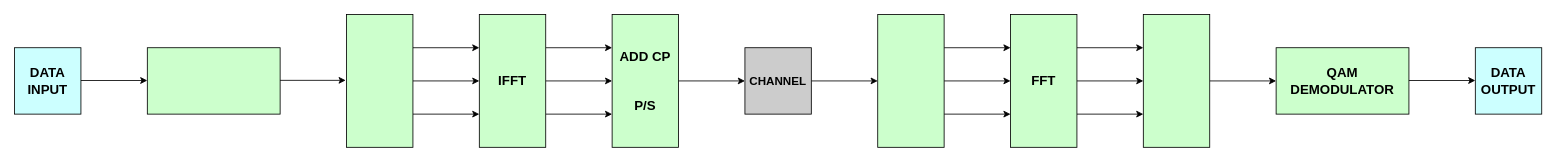
Image size: 1556x162. Some labels were removed from this diagram. The centre of each missing label's shape, as x and y in pixels:
P/S: [1176,80]
QAM MODULATOR: [213,80]
S/P: [379,80]
S/P REMOVE CP: [910,80]
